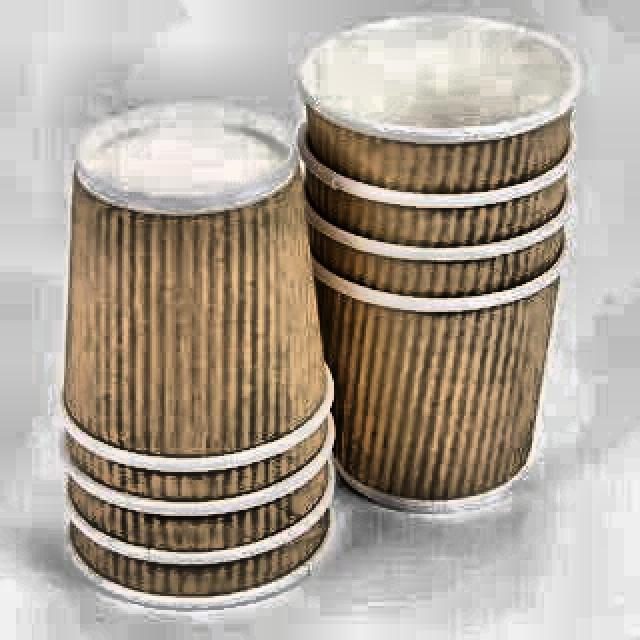Cup: (299, 8, 587, 557), (49, 118, 343, 620)
